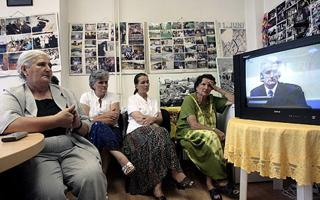person: (1, 51, 108, 199)
